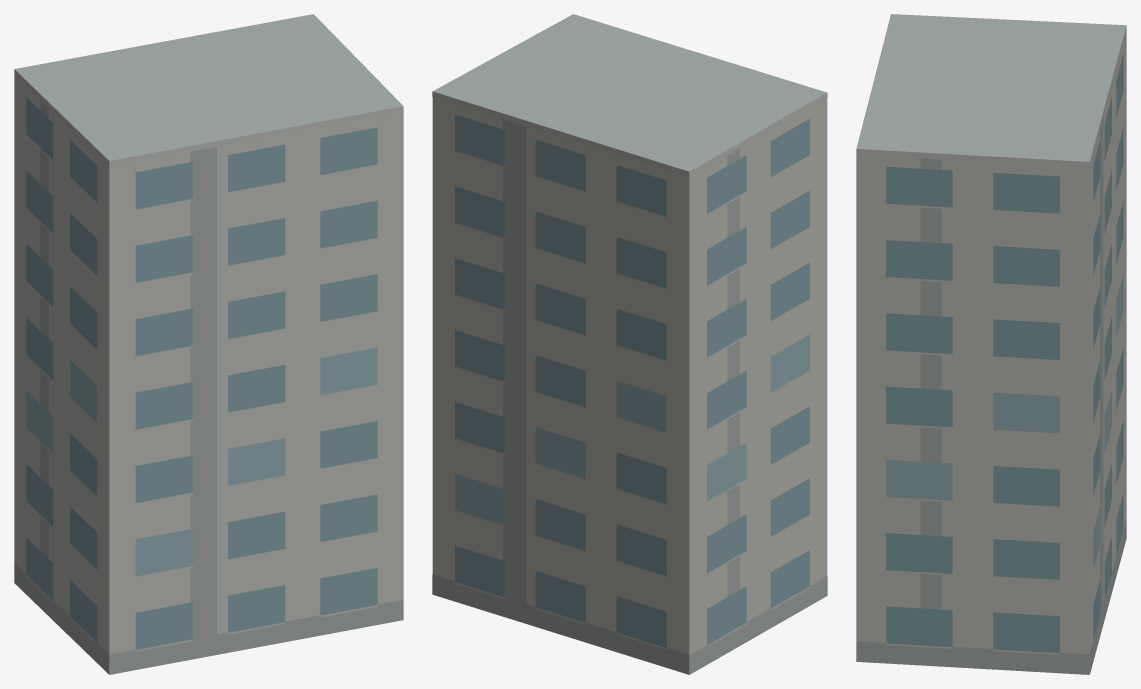
Rendered from survey-upis-32804542.glb.
3 views of the same model, side by side, from view 1: azimuth 30°, elevation 25°; view 2: azimuth 150°, elevation 25°; view 3: azimuth 270°, elevation 25° (orthographic). The views are drawn at different scales.
Visible parts, largest first — view 1: survey-upis-32804542.tmp; view 2: survey-upis-32804542.tmp; view 3: survey-upis-32804542.tmp.
Part boxes in pixels (box(x1,y1,x2,y2)): survey-upis-32804542.tmp: box(14, 14, 403, 674); survey-upis-32804542.tmp: box(432, 14, 827, 674); survey-upis-32804542.tmp: box(856, 14, 1126, 674).
Size of the model in its own units: 13.13 by 21.2 by 10.14.
